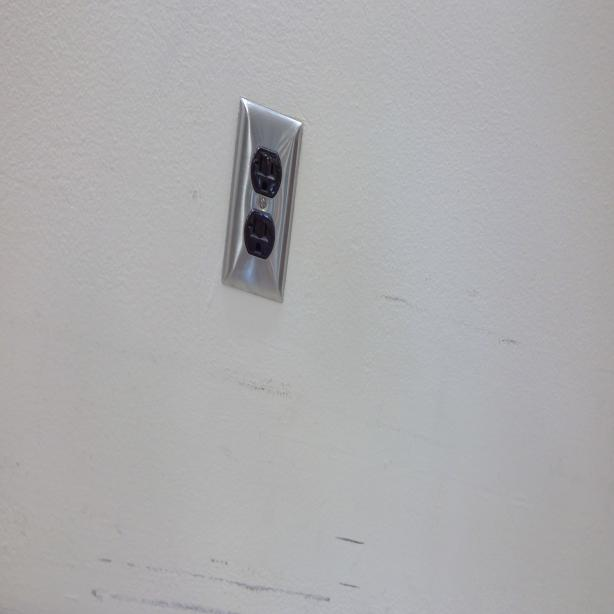typeb: (252, 145, 280, 194), (245, 208, 273, 256)
